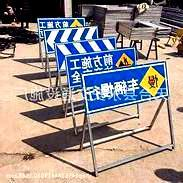sign: (85, 69, 166, 106), (65, 49, 136, 69), (39, 18, 86, 28)
